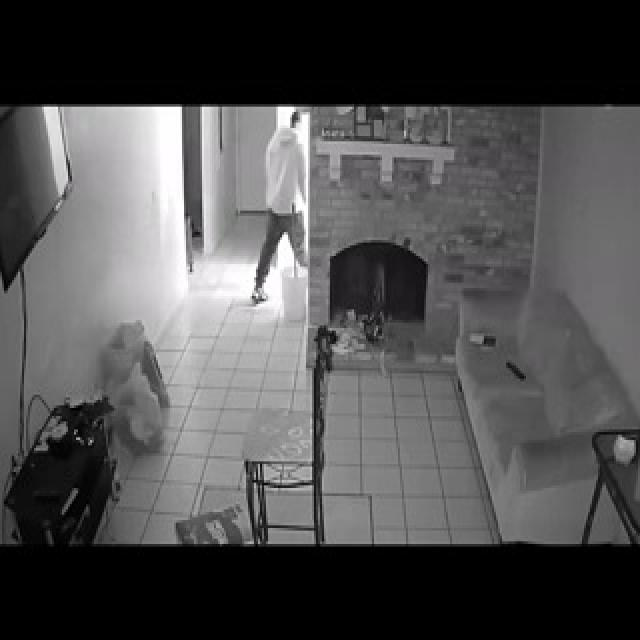thief: (275, 108, 311, 178)
